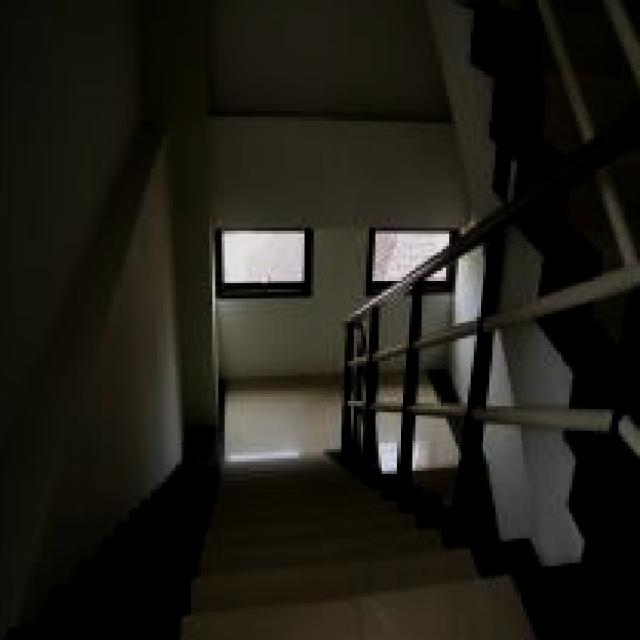downstair: (69, 447, 407, 640)
